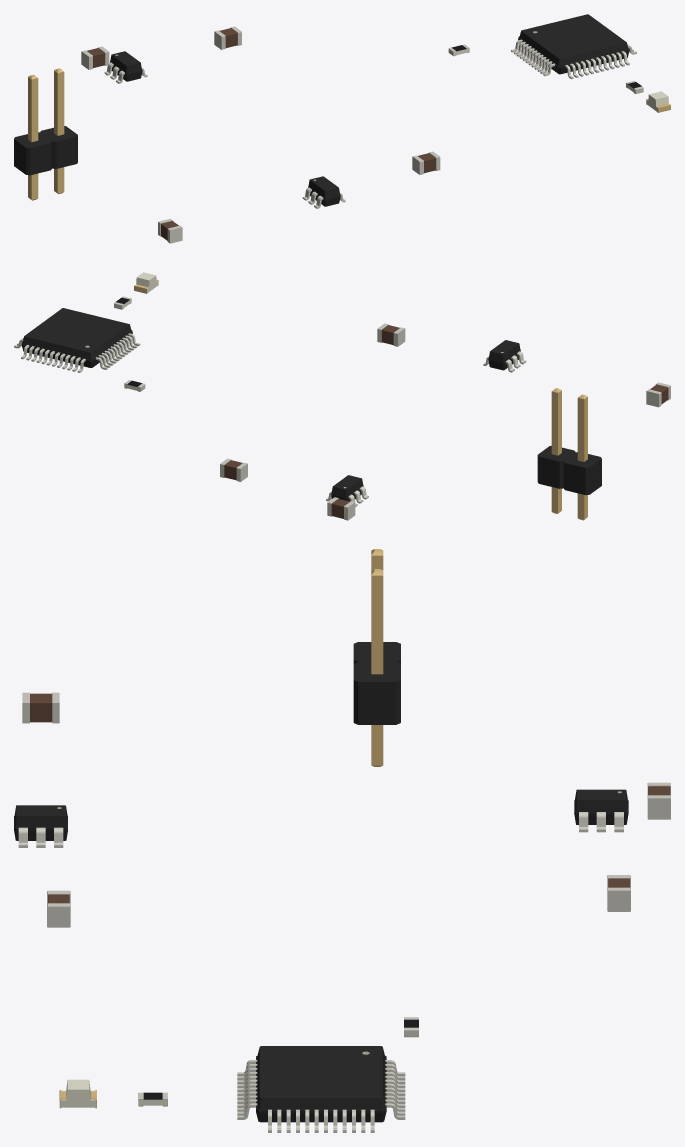
File: demo-board.glb
3 views of the same model, one above another, from view 1: azimuth 30°, elevation 25°; view 2: azimuth 150°, elevation 25°; view 3: azimuth 270°, elevation 25° (orthographic). The views are drawn at different scales.
Parts seen in each view (by area): view 1: =>[0:1:1:11], =>[0:1:1:13], =>[0:1:1:7] (×4), =>[0:1:1:5] (×2), =>[0:1:1:3]; view 2: =>[0:1:1:11], =>[0:1:1:13], =>[0:1:1:7] (×4), =>[0:1:1:5] (×2), =>[0:1:1:3]; view 3: =>[0:1:1:11], =>[0:1:1:13], =>[0:1:1:5] (×2), =>[0:1:1:7] (×4), =>[0:1:1:3].
Part boxes in pixels (bbox=[...]): =>[0:1:1:11]: bbox=[511, 14, 636, 79]; =>[0:1:1:13]: bbox=[14, 68, 77, 200]; =>[0:1:1:7] (×4): bbox=[81, 26, 440, 243]; =>[0:1:1:5] (×2): bbox=[104, 51, 345, 208]; =>[0:1:1:3]: bbox=[646, 91, 670, 112]; =>[0:1:1:11]: bbox=[14, 308, 140, 372]; =>[0:1:1:13]: bbox=[537, 388, 601, 520]; =>[0:1:1:7] (×4): bbox=[220, 323, 670, 520]; =>[0:1:1:5] (×2): bbox=[326, 340, 526, 506]; =>[0:1:1:3]: bbox=[134, 272, 158, 293]; =>[0:1:1:11]: bbox=[237, 1046, 405, 1132]; =>[0:1:1:13]: bbox=[353, 549, 400, 766]; =>[0:1:1:5] (×2): bbox=[14, 789, 628, 847]; =>[0:1:1:7] (×4): bbox=[22, 692, 670, 927]; =>[0:1:1:3]: bbox=[59, 1079, 96, 1108].
Size of the model in its own units: 0.0568 by 0.0115 by 0.0352.
